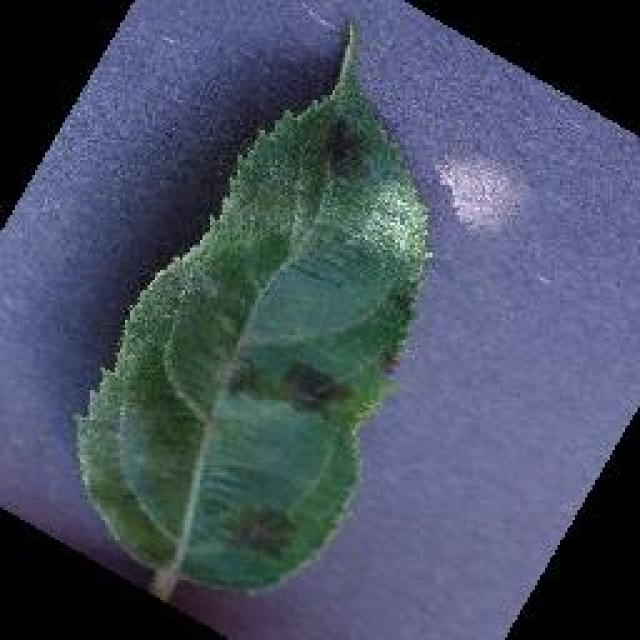apple scab disease: (70, 12, 435, 600)
